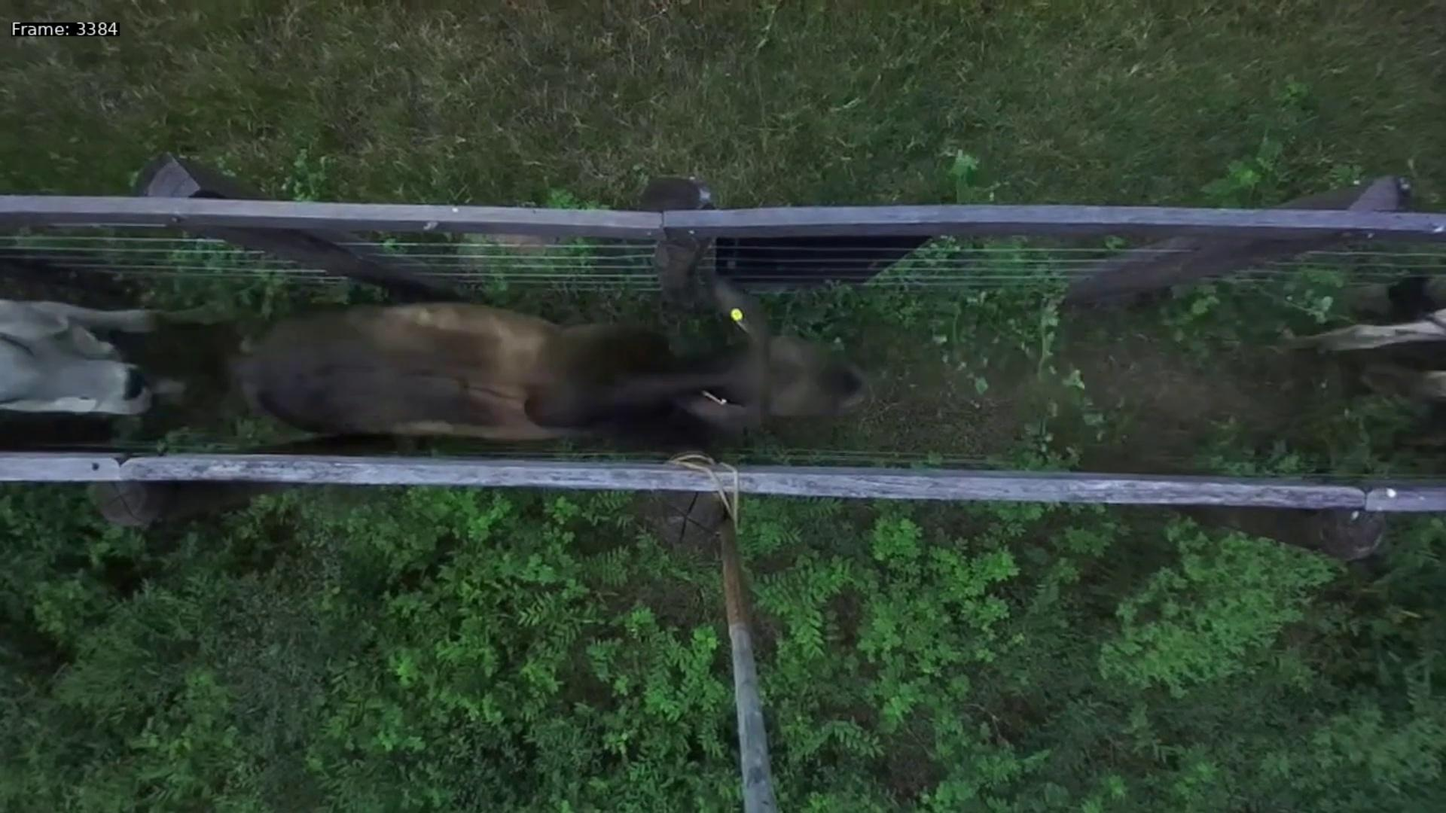cattle: (227, 298, 864, 449)
